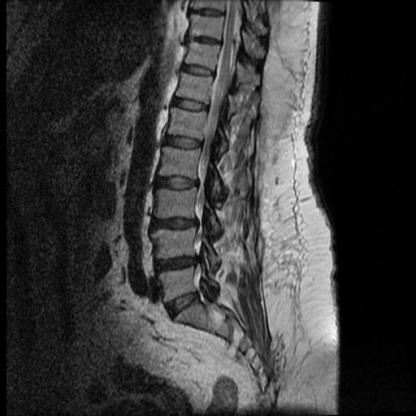Degenerative Disc Diseaserotation: (156, 254, 196, 274)
Disc Bulgerotation: (154, 172, 199, 196), (152, 214, 197, 238), (167, 291, 203, 315), (163, 133, 203, 154), (156, 255, 196, 275)
